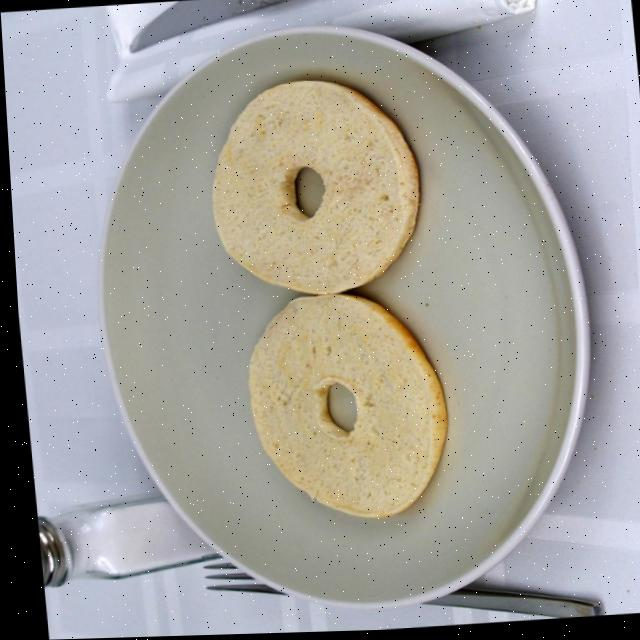Bagel: (244, 295, 441, 519), (210, 81, 416, 295)
